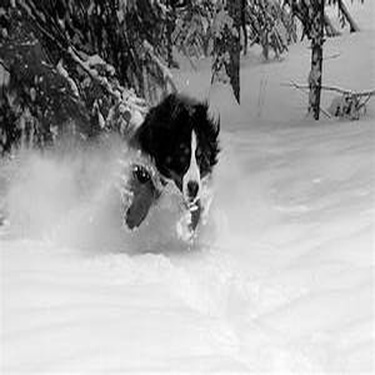dog: (99, 81, 231, 248)
